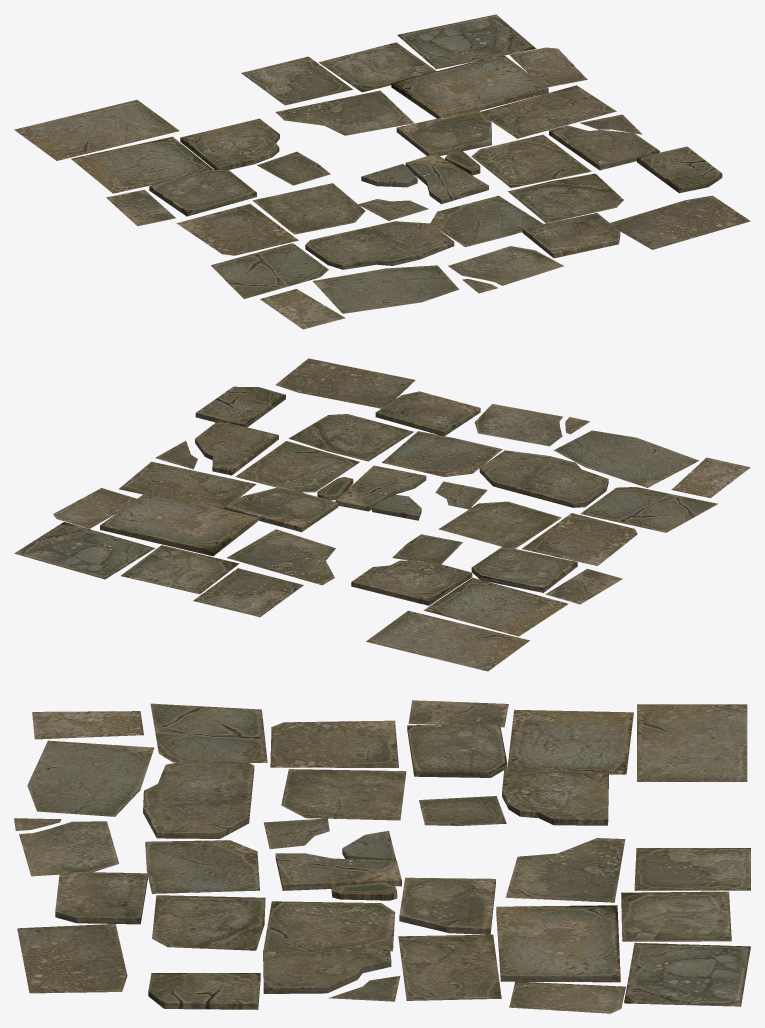
The model's file is bg_anh_gvalley_floore01_01_sm_old.FBX.
3 views of the same model, one above another, from view 1: azimuth 30°, elevation 25°; view 2: azimuth 150°, elevation 25°; view 3: azimuth 270°, elevation 25° (orthographic). The views are drawn at different scales.
Parts seen in each view (by area): view 1: bg_anh_gvalley_floore01_01_sm_old; view 2: bg_anh_gvalley_floore01_01_sm_old; view 3: bg_anh_gvalley_floore01_01_sm_old.
Boxes of the visible parts, x1,y1,x2,y2 form: bg_anh_gvalley_floore01_01_sm_old: [14, 14, 750, 329]; bg_anh_gvalley_floore01_01_sm_old: [14, 358, 750, 671]; bg_anh_gvalley_floore01_01_sm_old: [14, 700, 750, 1013].
Bounding box in the file's own units: 393 × 3.36 × 390.
